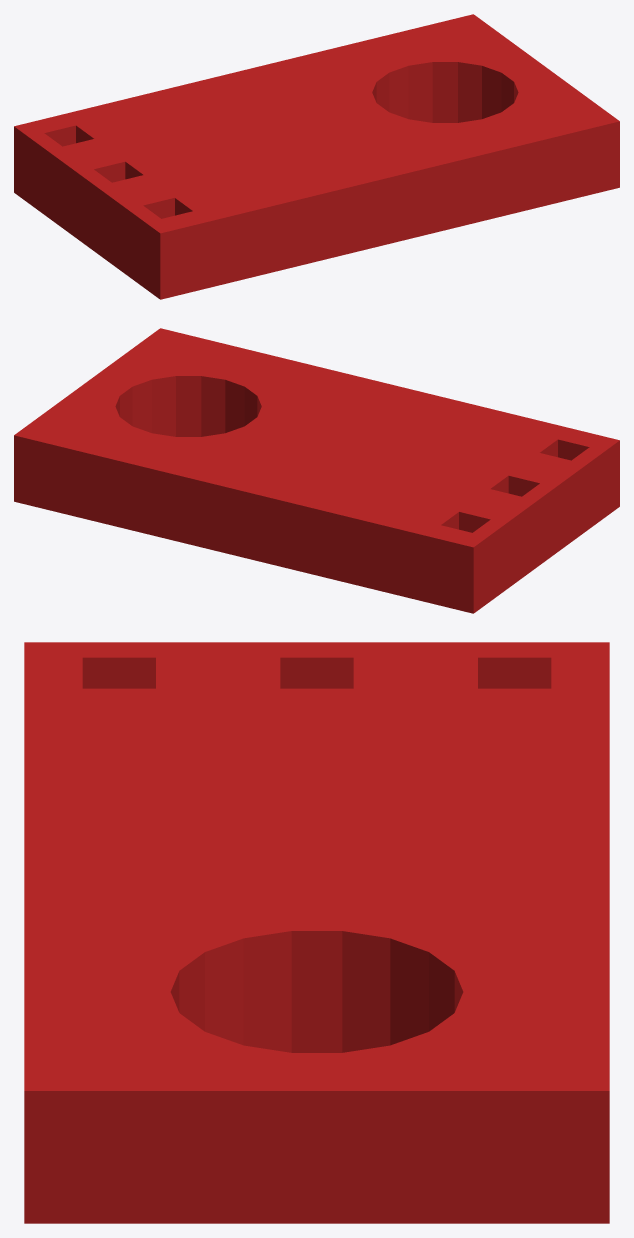
File: reflectance.dae
The picture shows the model from 3 angles, top to bottom: view 1: azimuth 30°, elevation 25°; view 2: azimuth 150°, elevation 25°; view 3: azimuth 270°, elevation 25°; orthographic projection. The views are drawn at different scales.
Parts seen in each view (by area): view 1: 1; view 2: 1; view 3: 1.
Part boxes in pixels (box(x1,y1,x2,y2)): 1: box(14, 14, 619, 299); 1: box(14, 328, 619, 613); 1: box(24, 642, 609, 1223).
Bounding box in the file's own units: 0.0145 × 0.008 × 0.002.
